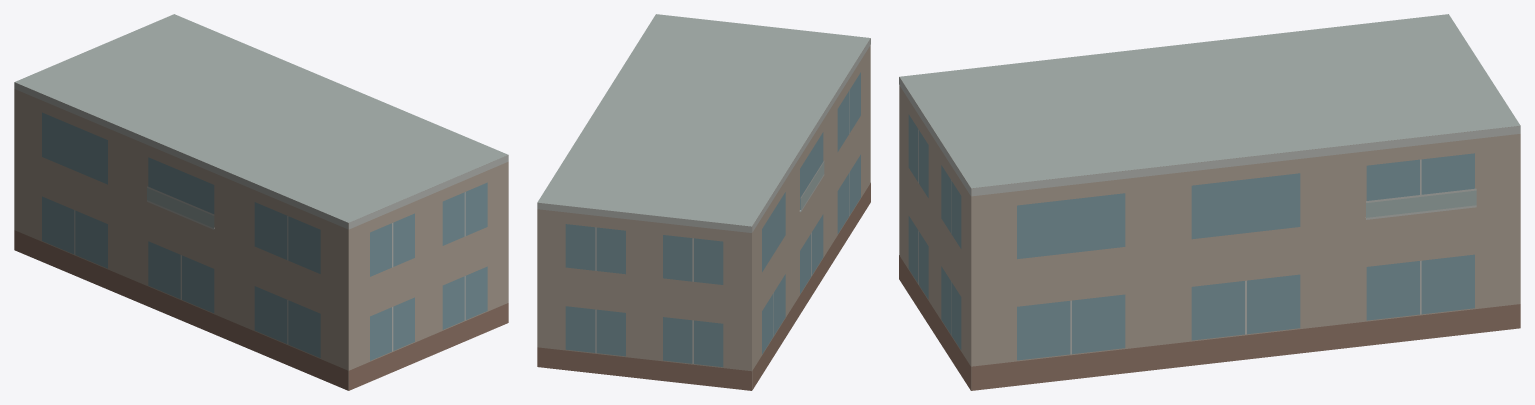
The model's file is survey-upis-32709735.glb.
The picture shows the model from 3 angles, left to right: view 1: azimuth 30°, elevation 25°; view 2: azimuth 150°, elevation 25°; view 3: azimuth 270°, elevation 25°; orthographic projection. The views are drawn at different scales.
Parts seen in each view (by area): view 1: survey-upis-32709735.tmp; view 2: survey-upis-32709735.tmp; view 3: survey-upis-32709735.tmp.
Boxes of the visible parts, x1,y1,x2,y2 form: survey-upis-32709735.tmp: (14, 14, 508, 390); survey-upis-32709735.tmp: (537, 14, 870, 390); survey-upis-32709735.tmp: (899, 14, 1520, 390).
Size of the model in its own units: 11.27 by 6.1 by 16.97.
